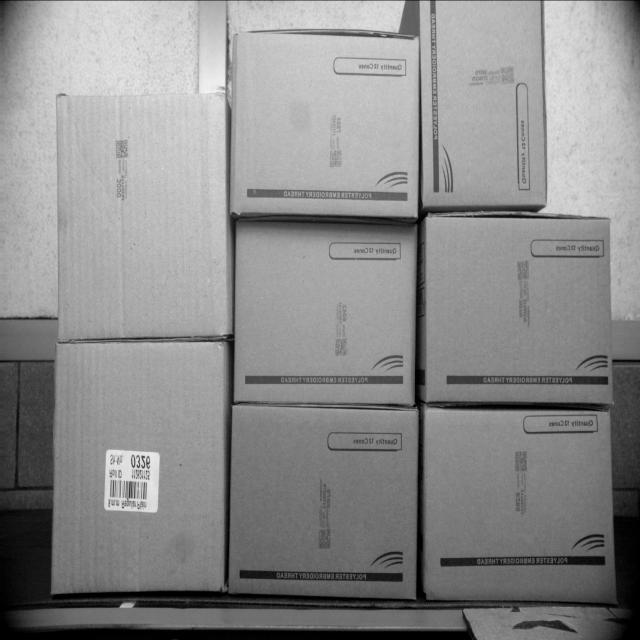cardboxes: (51, 338, 226, 594), (57, 88, 230, 341), (423, 409, 616, 603), (230, 404, 418, 600), (232, 33, 422, 214), (233, 220, 419, 402), (424, 219, 609, 400), (423, 0, 549, 207)
